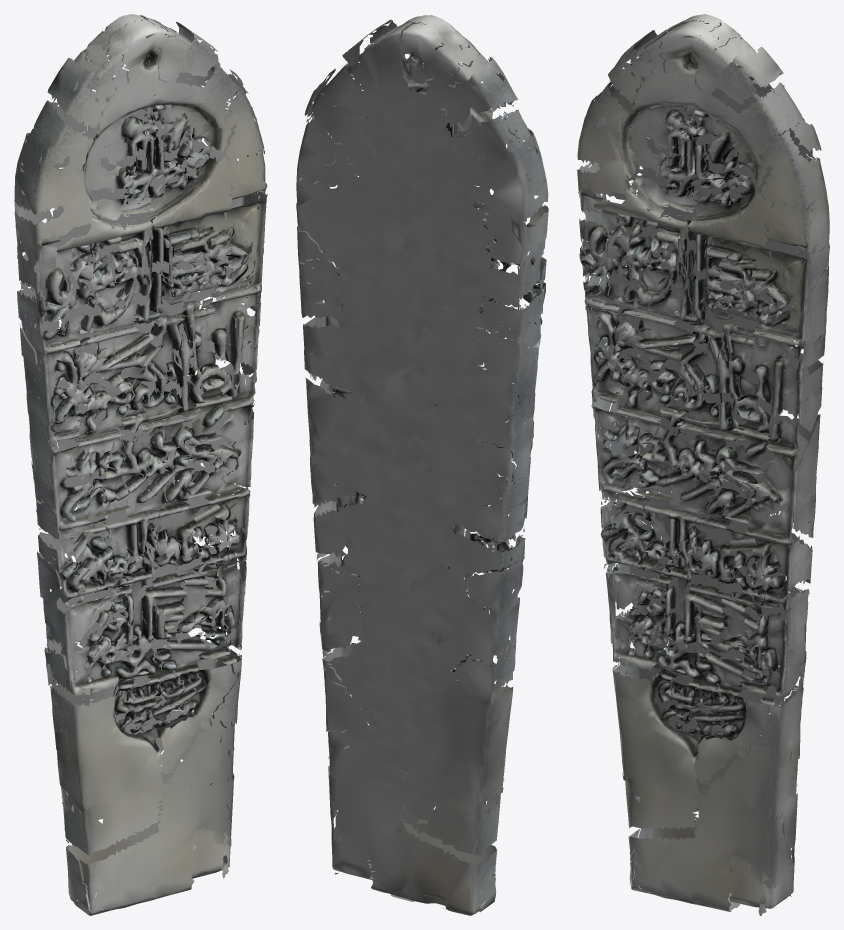
The model's file is kadin.glb.
3 renders of one model, left to right at view 1: azimuth 30°, elevation 25°; view 2: azimuth 150°, elevation 25°; view 3: azimuth 330°, elevation 25°, orthographic.
Parts seen in each view (by area): view 1: Object_6, Object_4, Object_5, Object_7; view 2: Object_7, Object_4, Object_5, Object_6; view 3: Object_6, Object_5, Object_4, Object_7.
Boxes of the visible parts, x1,y1,x2,y2 form: Object_6: (21, 15, 266, 912); Object_4: (14, 22, 267, 887); Object_5: (17, 14, 265, 915); Object_7: (14, 15, 267, 905); Object_7: (296, 16, 540, 915); Object_4: (300, 19, 548, 900); Object_5: (296, 23, 546, 912); Object_6: (297, 15, 548, 901); Object_6: (577, 20, 828, 911); Object_5: (579, 14, 829, 894); Object_4: (577, 26, 826, 908); Object_7: (578, 20, 829, 915).
Bounding box in the file's own units: 17386 × 62367 × 3464.
1 material, 1 textured.
